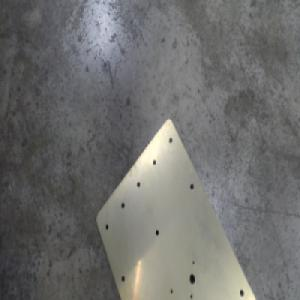MetalSheet: (94, 113, 257, 300)
